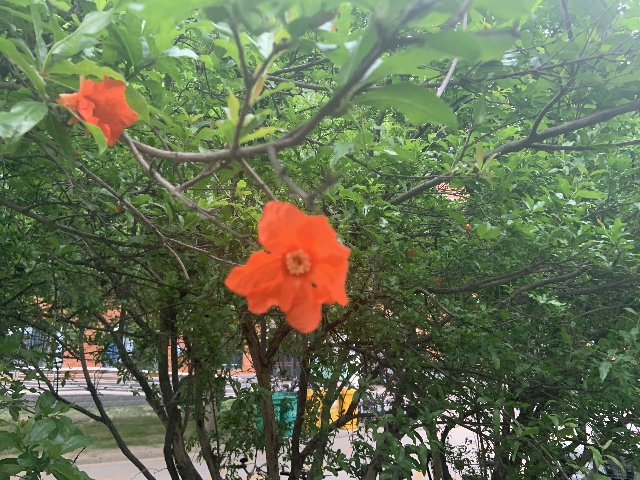bud: (465, 223, 471, 233)
flower: (223, 200, 350, 333), (57, 73, 138, 146), (407, 249, 415, 256), (434, 276, 440, 283)
